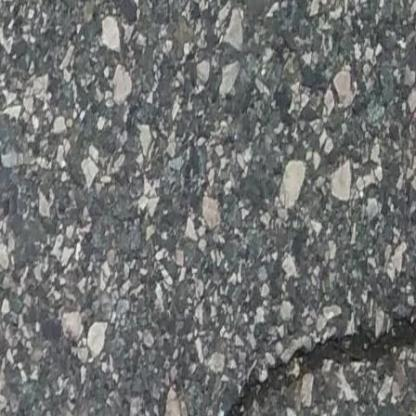Cracks: (204, 314, 416, 416)
